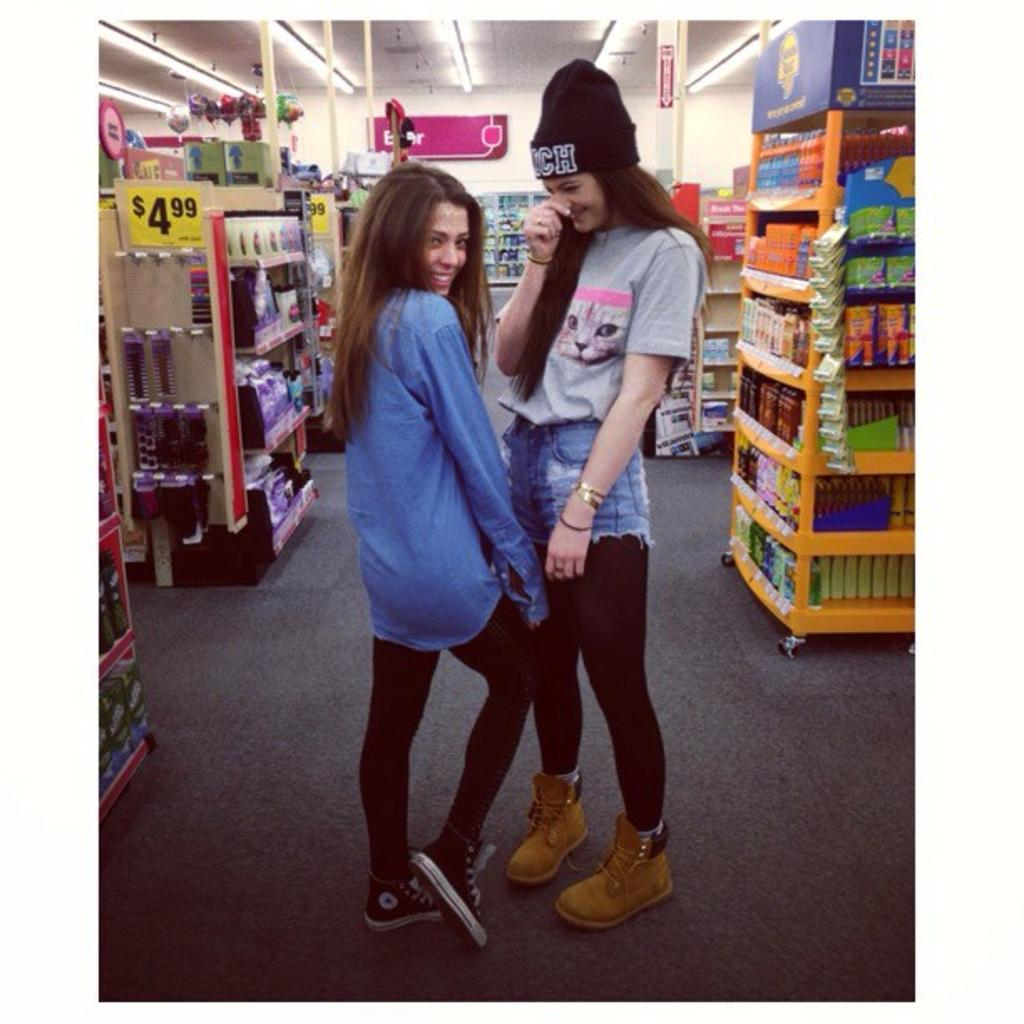face: (540, 130, 608, 232), (408, 198, 472, 300)
